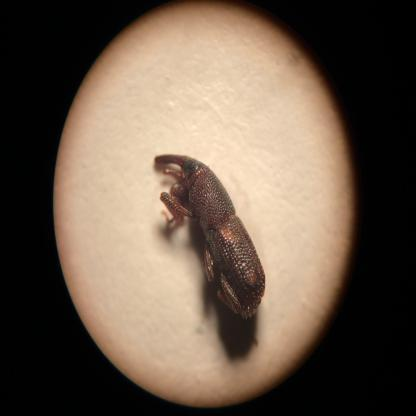rice-bug: (151, 154, 267, 320)
